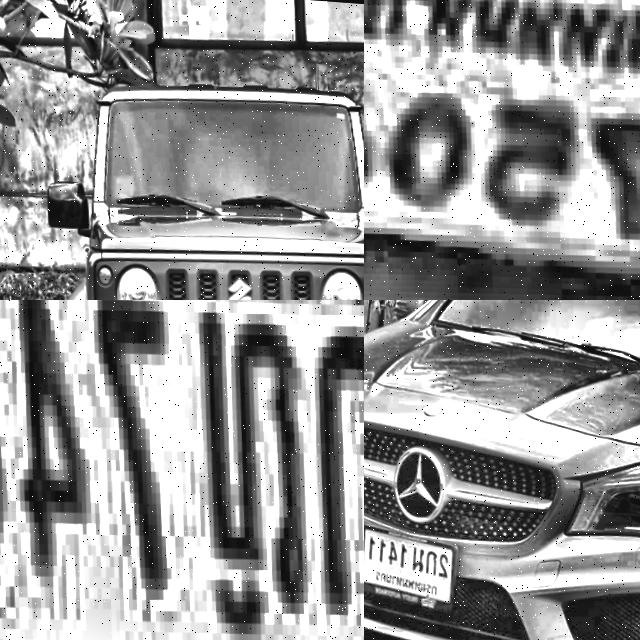license-plate: (0, 300, 364, 640), (364, 0, 640, 300), (364, 515, 466, 610)
